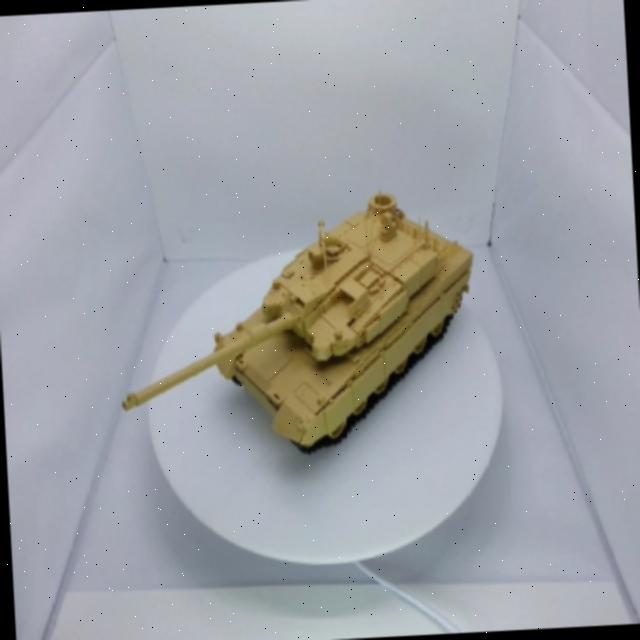korea tank: (110, 162, 493, 490)
